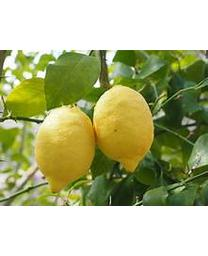lemon: (36, 105, 97, 194), (93, 85, 153, 173)
